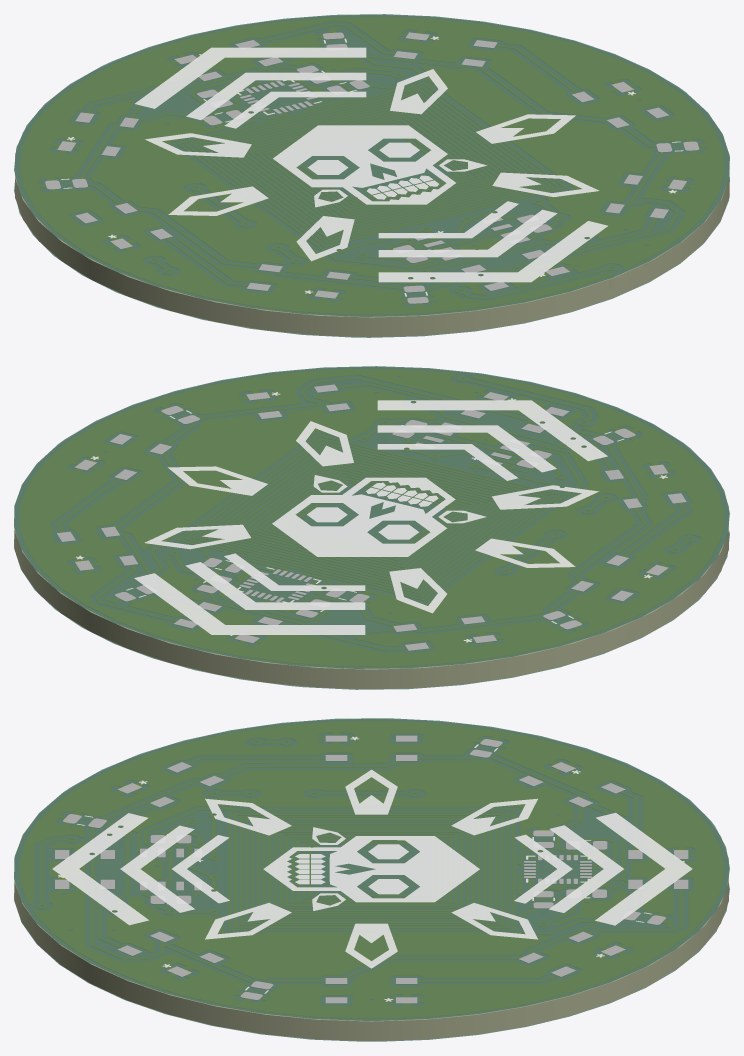
Rendered from jollybadge.glb.
The picture shows the model from 3 angles, top to bottom: view 1: azimuth 30°, elevation 25°; view 2: azimuth 150°, elevation 25°; view 3: azimuth 270°, elevation 25°; orthographic projection.
Parts seen in each view (by area): view 1: =>[0:1:1:7], =>[0:1:1:2], =>[0:1:1:9], =>[0:1:1:5]; view 2: =>[0:1:1:7], =>[0:1:1:2], =>[0:1:1:9], =>[0:1:1:5]; view 3: =>[0:1:1:7], =>[0:1:1:2], =>[0:1:1:9], =>[0:1:1:5].
Boxes of the visible parts, box(x1,y1,x2,y2) form: =>[0:1:1:7]: box(14, 14, 729, 337); =>[0:1:1:2]: box(20, 17, 723, 313); =>[0:1:1:9]: box(15, 15, 729, 337); =>[0:1:1:5]: box(61, 36, 683, 296); =>[0:1:1:7]: box(14, 366, 729, 689); =>[0:1:1:2]: box(20, 369, 723, 666); =>[0:1:1:9]: box(14, 367, 728, 689); =>[0:1:1:5]: box(76, 392, 667, 642); =>[0:1:1:7]: box(14, 718, 729, 1041); =>[0:1:1:2]: box(20, 721, 723, 1018); =>[0:1:1:9]: box(14, 719, 728, 1041); =>[0:1:1:5]: box(52, 736, 692, 1001).
Size of the model in its own units: 0.05 by 0.00166 by 0.05.
4 materials, 4 textured.
